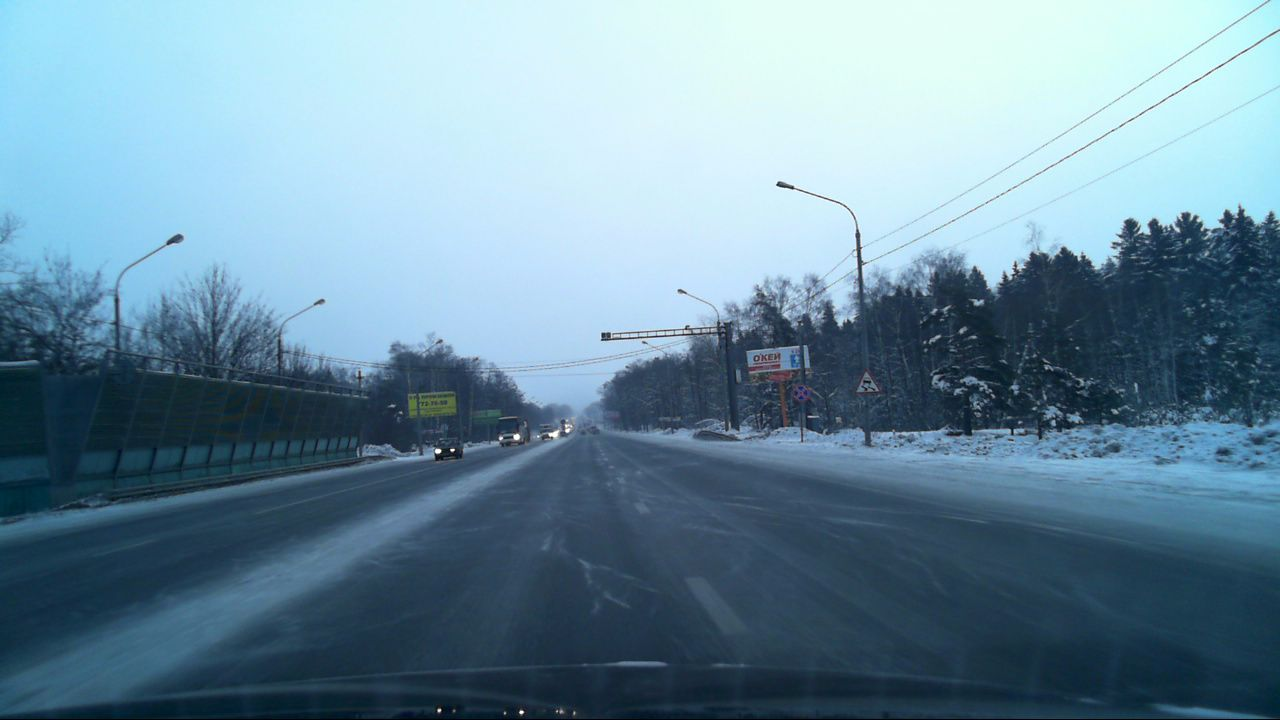No Parking: (790, 383, 808, 403)
